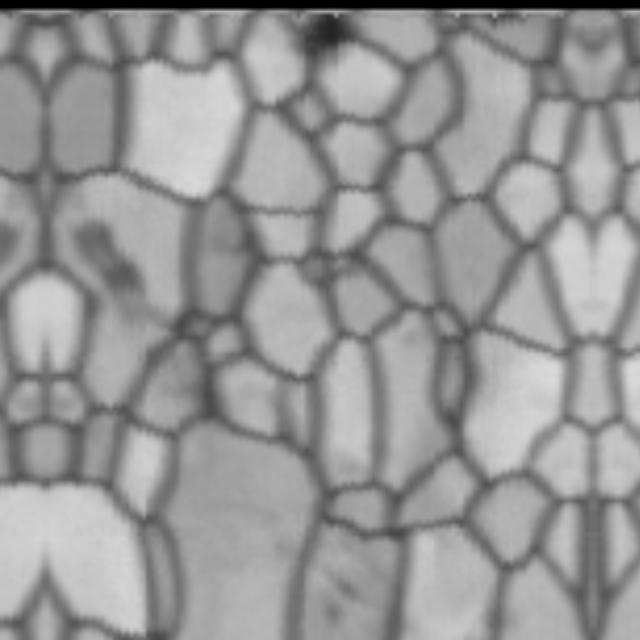good_void: (60, 218, 169, 306), (279, 11, 368, 66), (326, 572, 373, 610), (322, 598, 350, 622)
